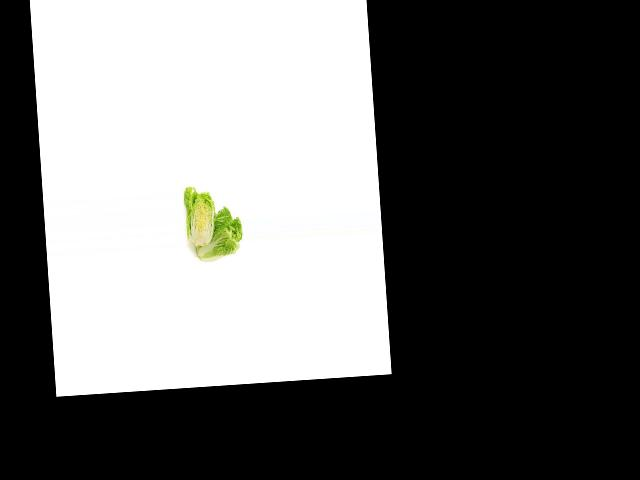lettuce: (189, 202, 246, 264)
